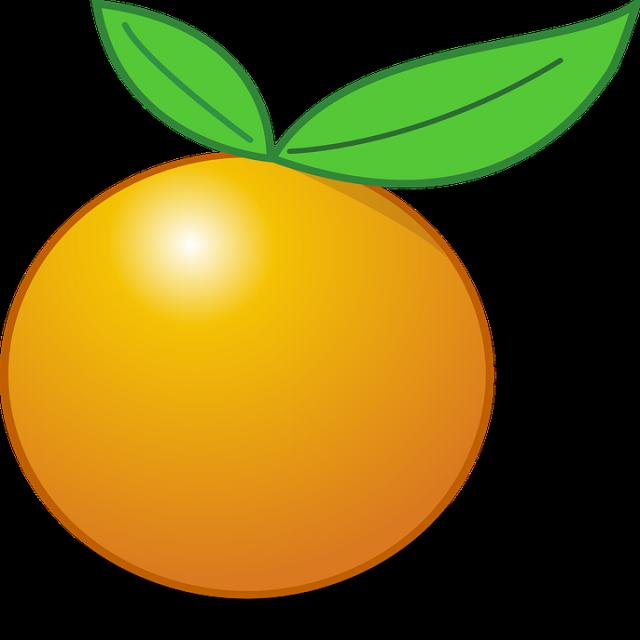orange: (0, 135, 500, 603)
